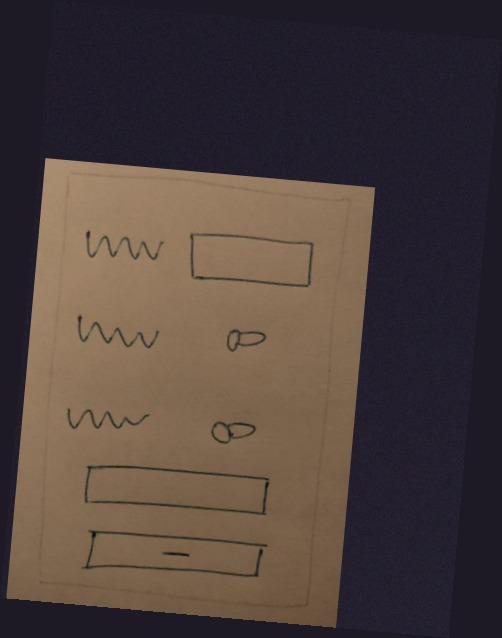button: (78, 520, 272, 590)
switch: (209, 318, 276, 361), (203, 409, 268, 453)
text: (70, 306, 168, 362), (77, 223, 169, 272), (60, 400, 154, 440)
text_input: (77, 457, 279, 524), (181, 226, 323, 297)
